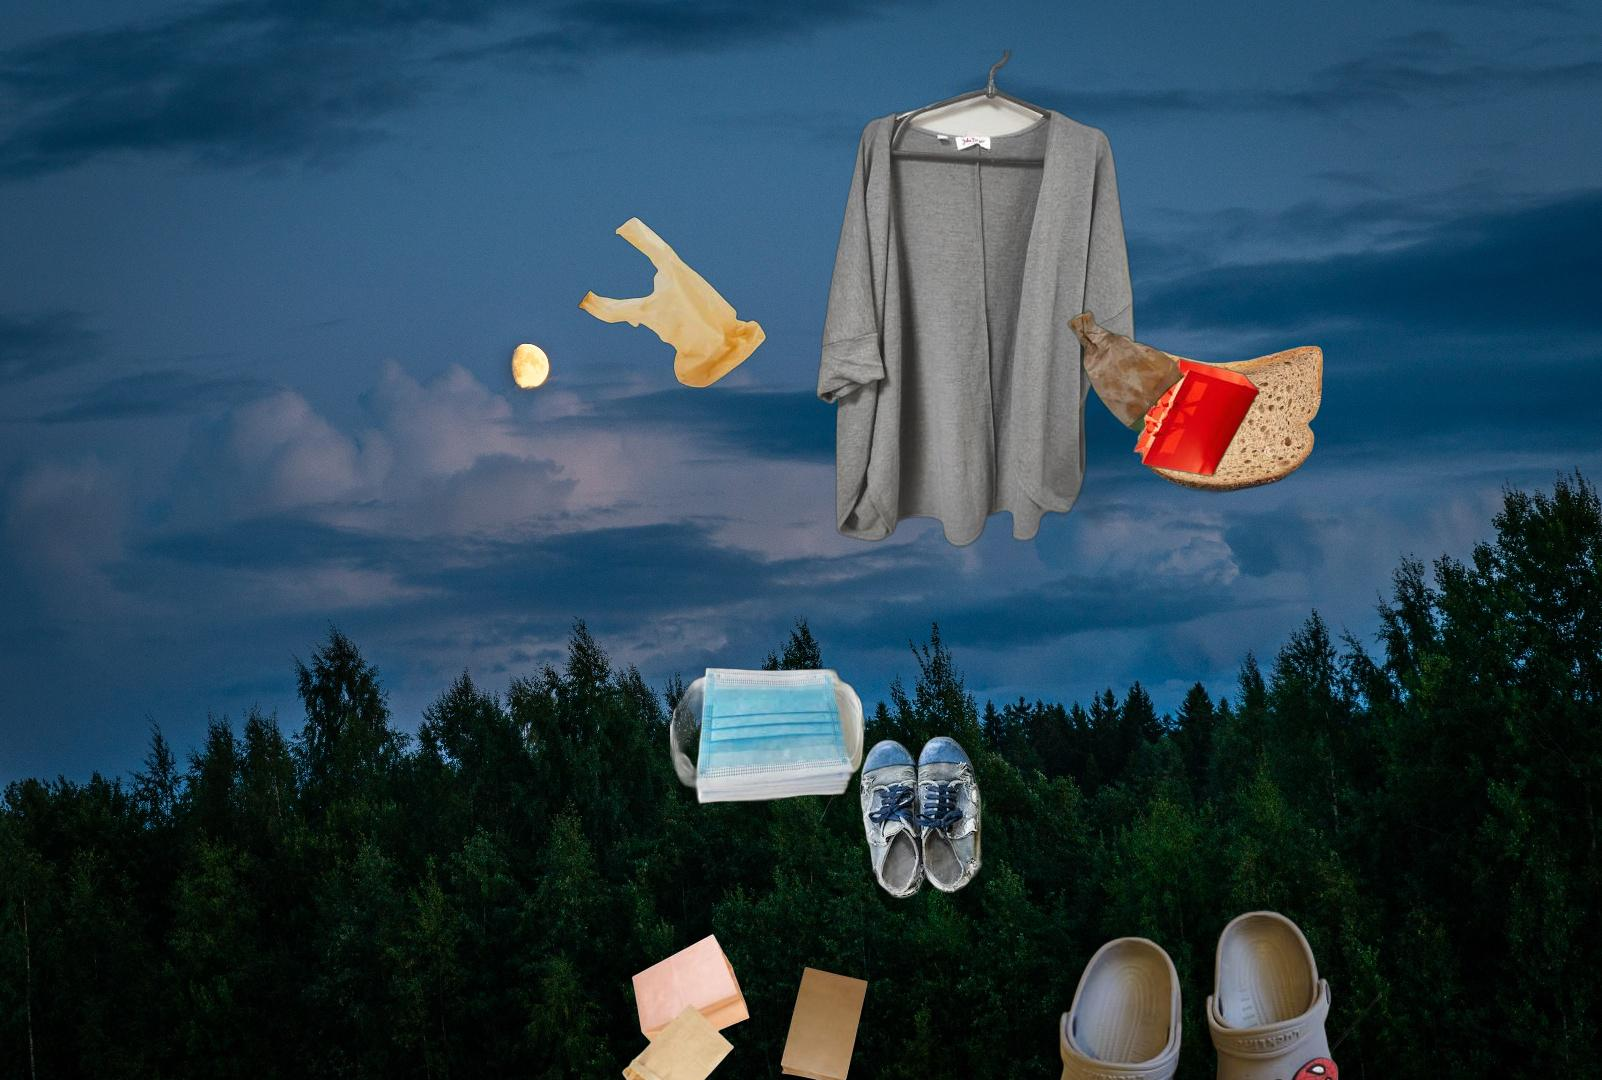biological: (1134, 344, 1326, 499)
clothes: (812, 49, 1138, 551)
paper-bag: (1038, 306, 1262, 533), (620, 931, 872, 1080)
plastic-bag: (576, 215, 769, 389)
shoes: (1045, 905, 1381, 1080), (857, 734, 988, 903)
trash: (670, 664, 869, 808)
